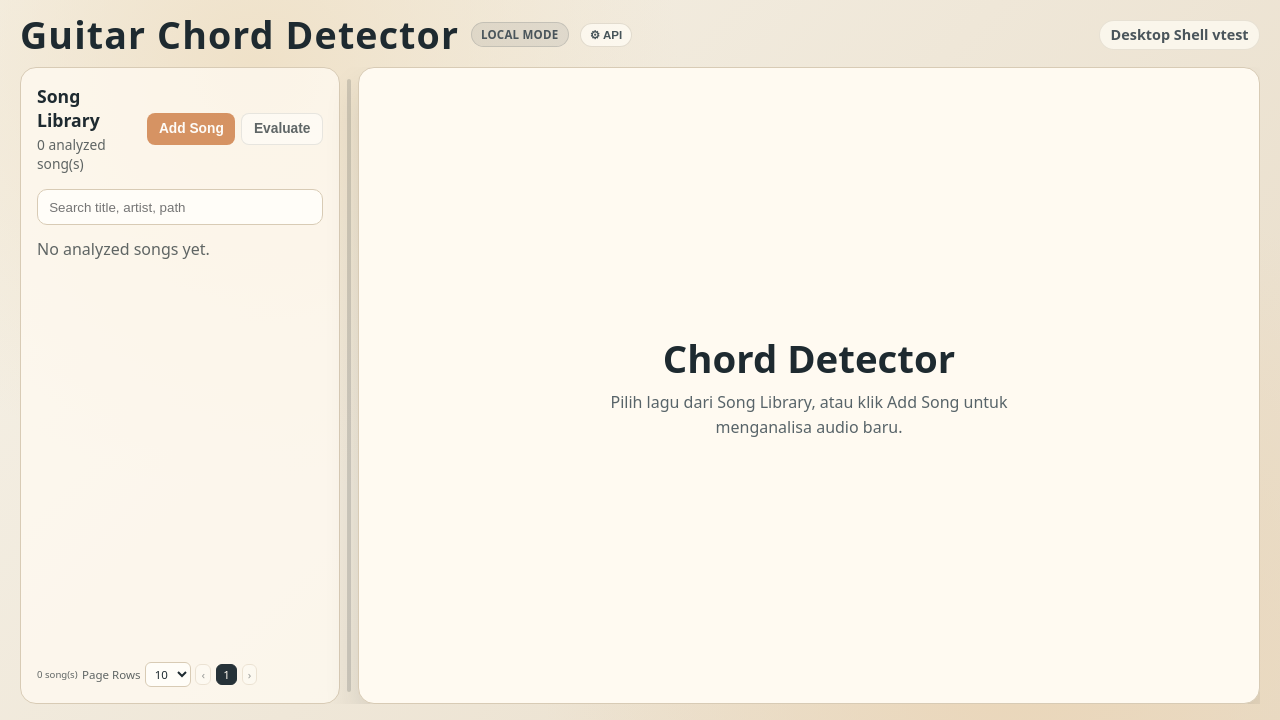
Test case: runs genre evaluation from the desktop view without analyzing the active song
The image size is (1280, 720).
Click the button "Evaluate". click: (282, 129)
box: top-left (241, 113), bottom-right (323, 145)
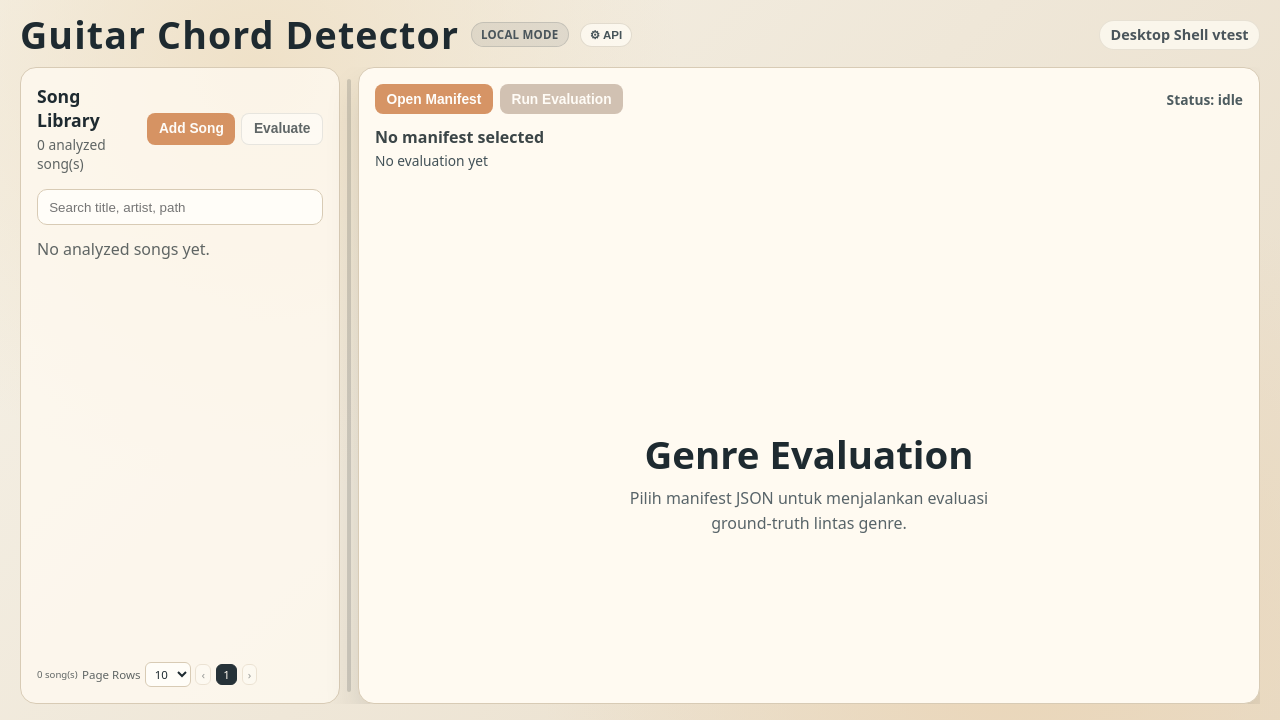
Expected: the heading "Genre Evaluation" is shown, top-left (644, 428), bottom-right (974, 480)
Click the button "Open Manifest". click: (434, 99)
box: top-left (375, 84), bottom-right (493, 114)
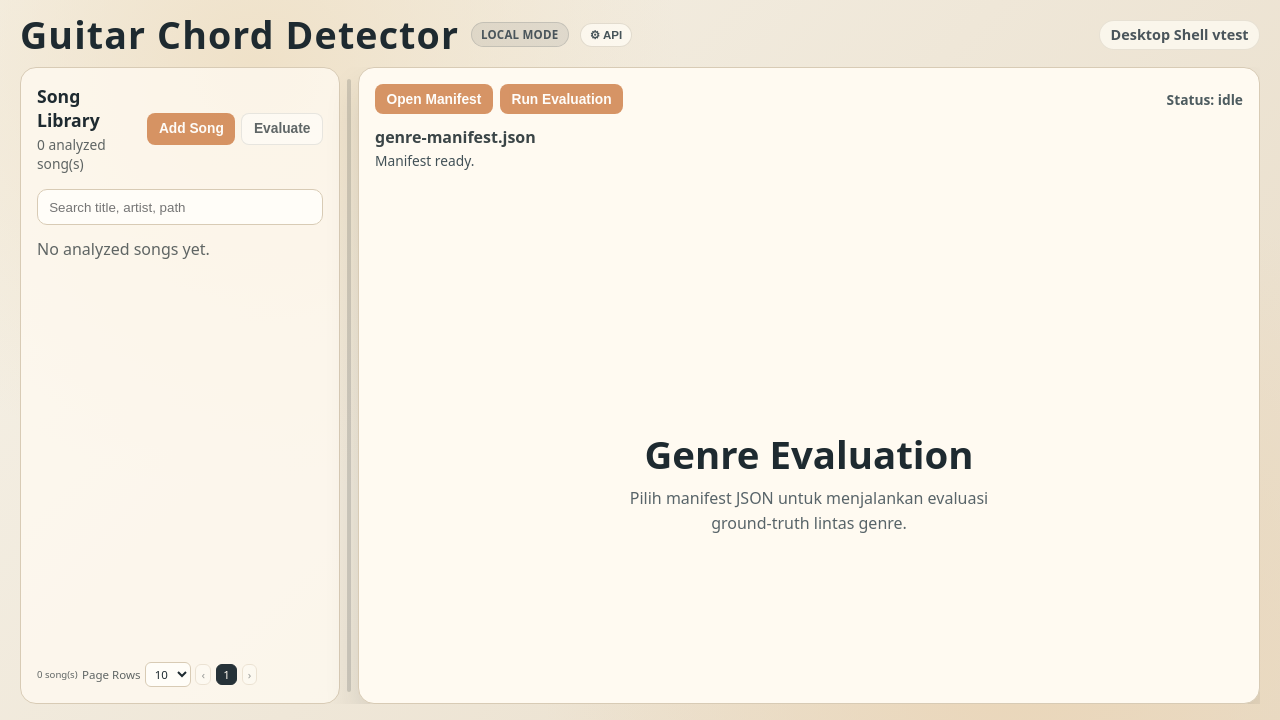
Expected: the text "Manifest ready." is shown, top-left (375, 151), bottom-right (474, 170)
Click the button "Run Evaluation". click: (562, 99)
box: top-left (500, 84), bottom-right (623, 114)
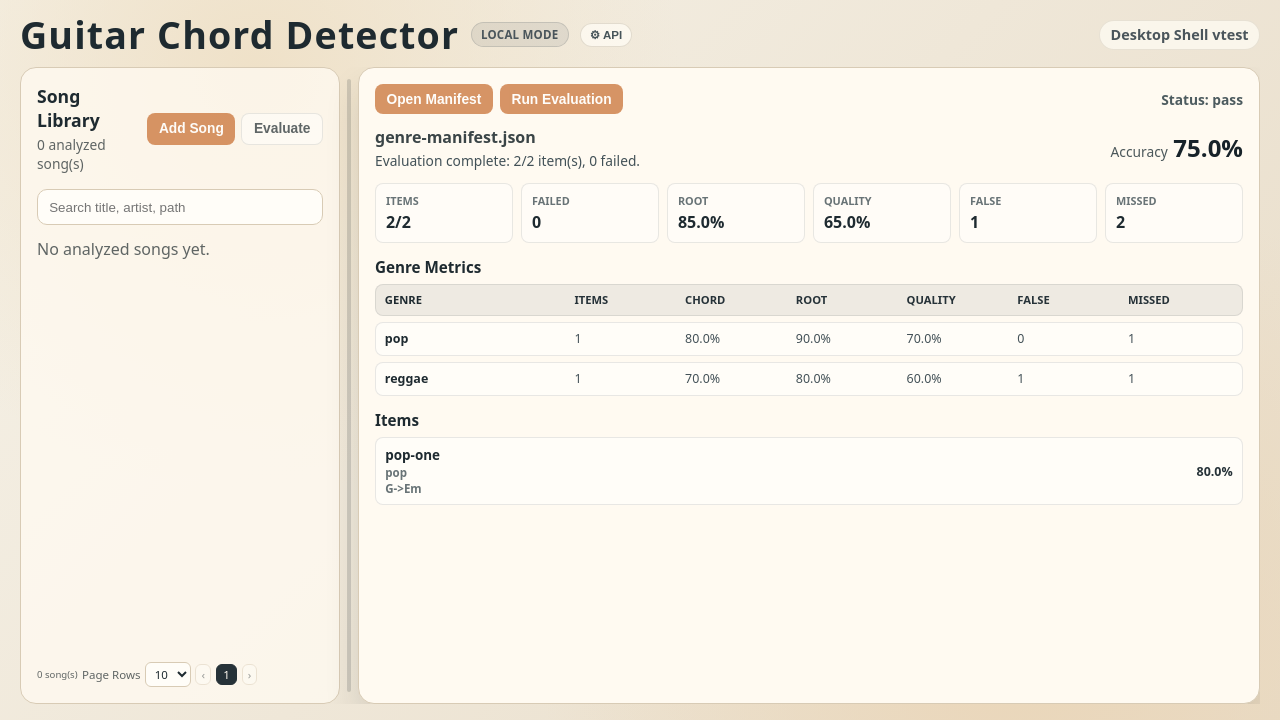
Expected: the text "Evaluation complete: 2/2 item(s), 0 failed." is shown, top-left (375, 151), bottom-right (640, 170)
Expected: the text "reggae" is shown, top-left (385, 370), bottom-right (428, 387)
Expected: the text "pop-one" is shown, top-left (385, 446), bottom-right (440, 464)
